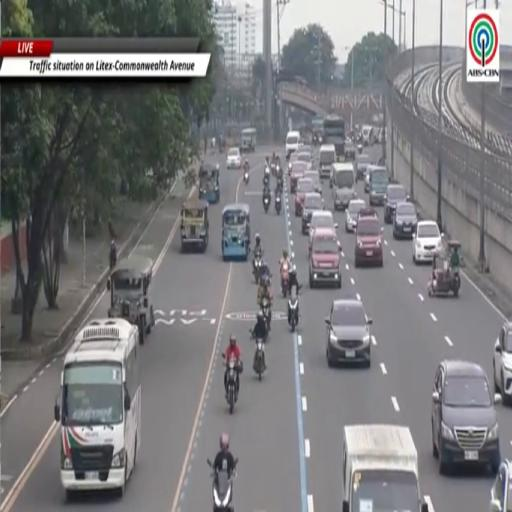bus: (54, 318, 141, 499), (324, 115, 345, 156), (312, 118, 323, 146)
car: (432, 360, 501, 474), (325, 299, 372, 367), (309, 229, 341, 289), (493, 320, 511, 404), (355, 217, 383, 267), (413, 220, 441, 264), (309, 211, 338, 252), (331, 163, 356, 210), (489, 459, 511, 511), (384, 184, 409, 223), (301, 192, 324, 234), (367, 165, 389, 205), (393, 202, 417, 238), (295, 178, 315, 216), (346, 199, 365, 232), (319, 144, 336, 179), (290, 162, 307, 194), (285, 131, 300, 159), (304, 170, 321, 194), (356, 154, 371, 181), (227, 148, 241, 169), (297, 151, 312, 169), (358, 207, 378, 220), (344, 139, 355, 161), (288, 152, 297, 174), (364, 165, 371, 193), (298, 144, 313, 156), (288, 152, 296, 171)
jeepney: (107, 255, 155, 344), (222, 204, 250, 261), (180, 199, 209, 252), (198, 164, 220, 203), (240, 127, 256, 152)
motorcycle: (207, 459, 236, 511), (226, 359, 238, 413), (254, 339, 266, 380), (288, 296, 299, 332), (261, 299, 271, 331), (254, 254, 262, 283), (281, 264, 288, 297), (263, 196, 270, 213), (275, 196, 281, 214), (277, 175, 284, 189), (244, 169, 249, 185), (270, 163, 276, 176), (263, 174, 269, 186), (358, 143, 362, 154), (288, 164, 291, 177)
tricycle: (428, 240, 460, 297)
truck: (343, 424, 428, 511)
